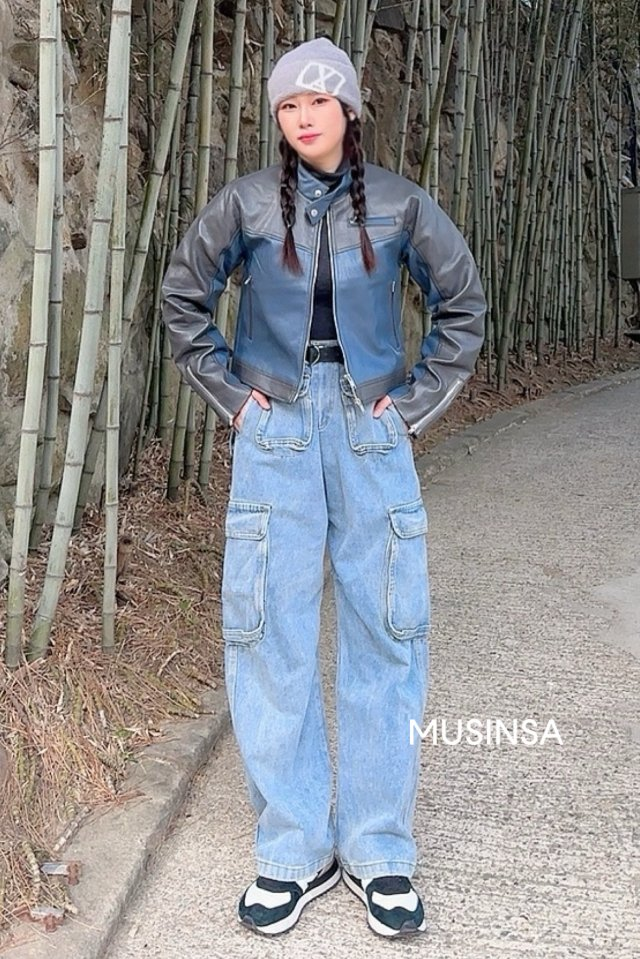Beanie: (261, 36, 366, 111)
Jacket: (158, 154, 492, 434)
Jeans: (216, 338, 430, 880)
Shoes: (233, 852, 440, 947)
